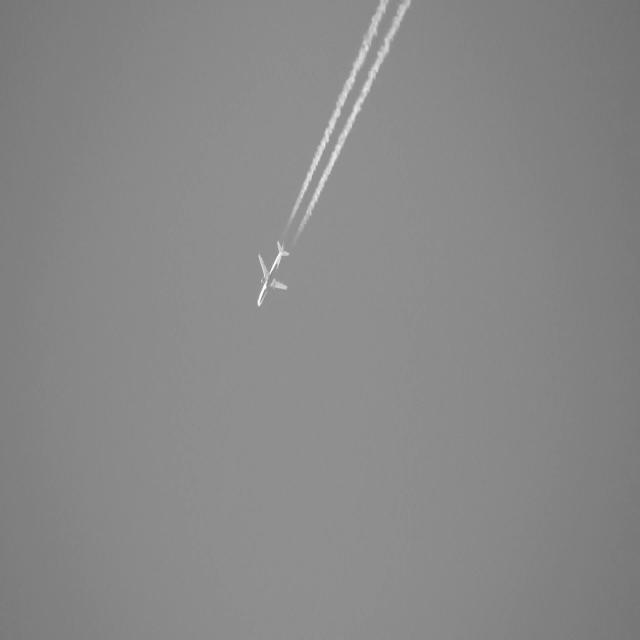aeroplane: (254, 237, 290, 312)
